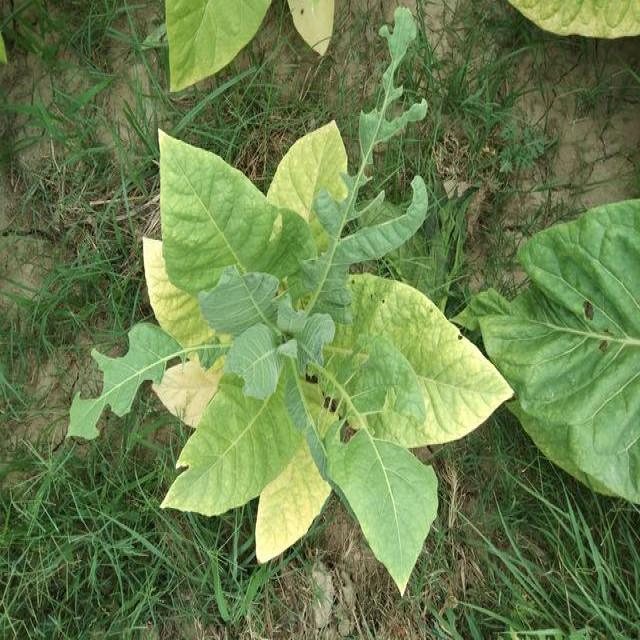crop: (135, 108, 485, 596)
